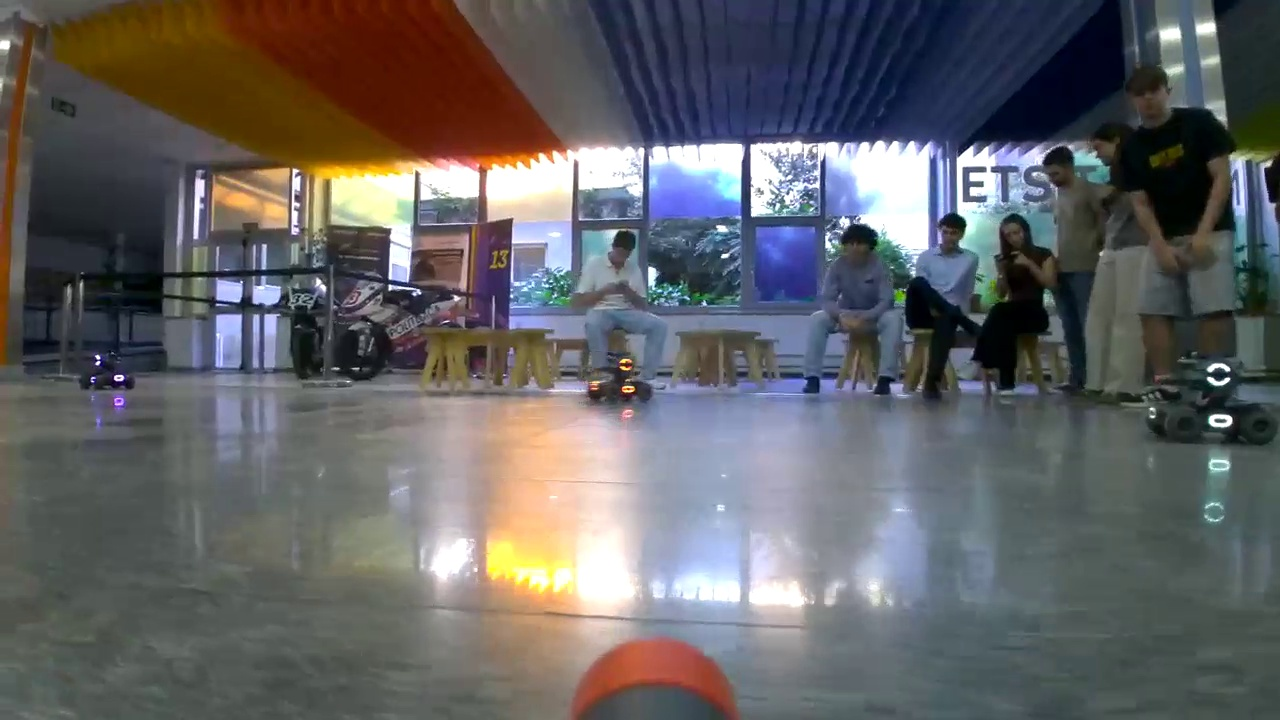robot: (1145, 352, 1278, 442), (585, 352, 655, 400), (78, 348, 135, 390)
